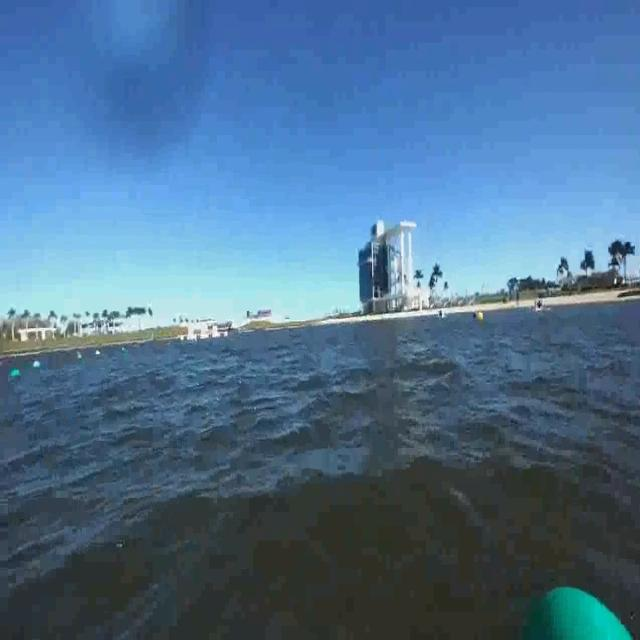green-buoy: (503, 564, 640, 638), (9, 366, 21, 378)
yellow-buoy: (476, 309, 484, 321)
